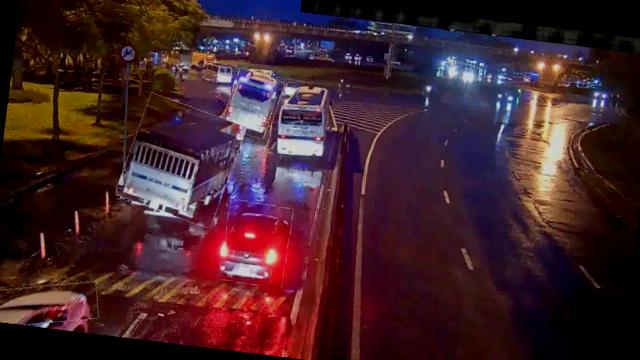Bus: (270, 86, 332, 160), (222, 68, 284, 138), (204, 62, 238, 84)
Car: (219, 199, 293, 288), (0, 273, 101, 333)
Truck: (118, 96, 244, 226)
